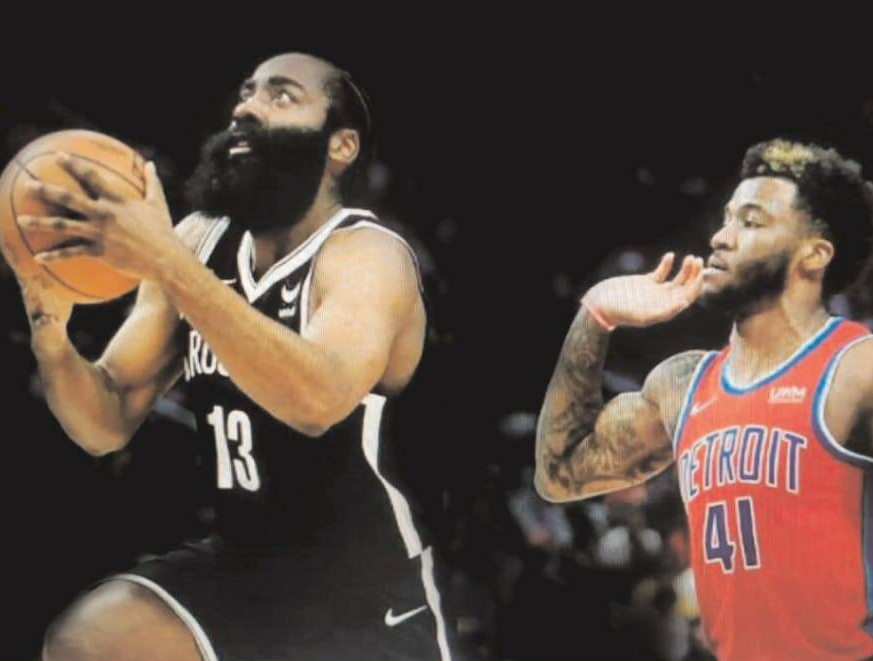b_ball: (1, 125, 153, 308)
face: (180, 40, 373, 227), (684, 135, 873, 325)
player: (41, 23, 496, 661), (524, 128, 873, 661)
